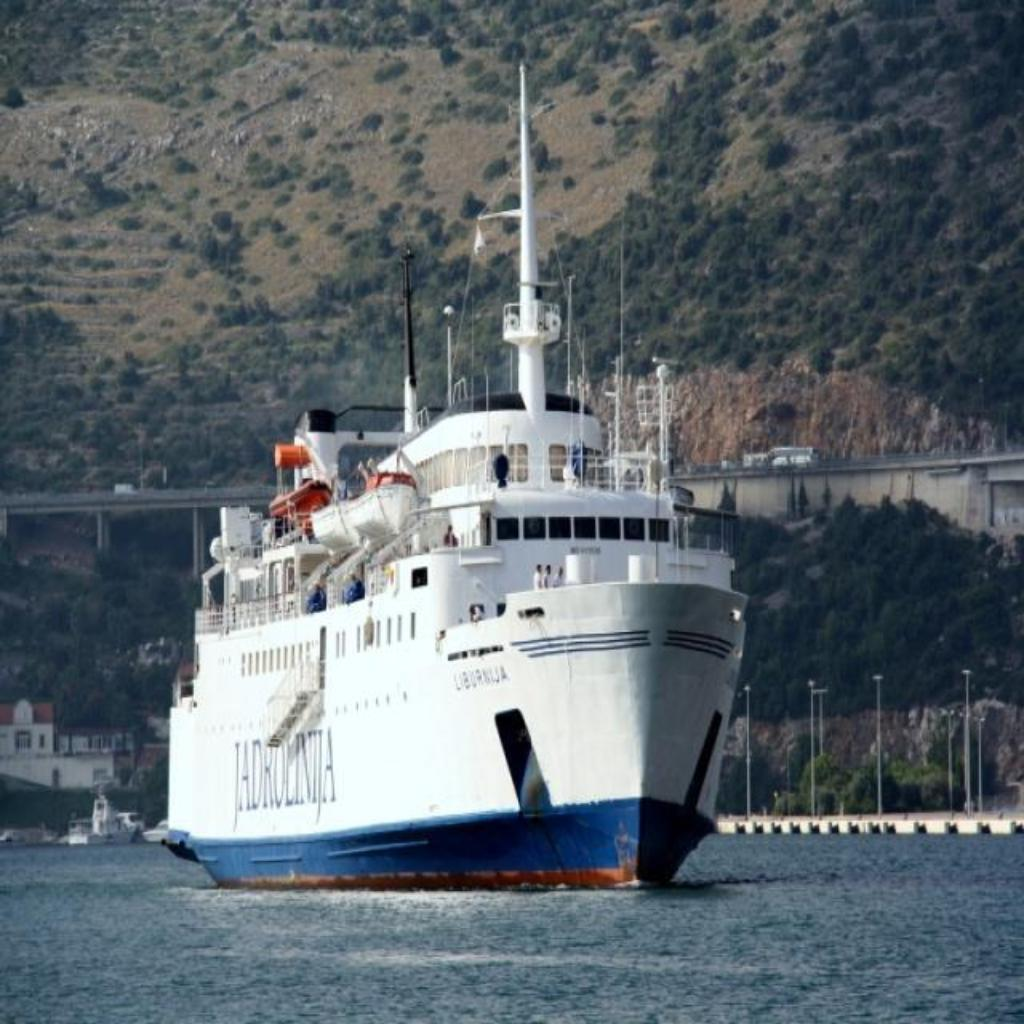PassengerShip: (154, 55, 758, 903)
